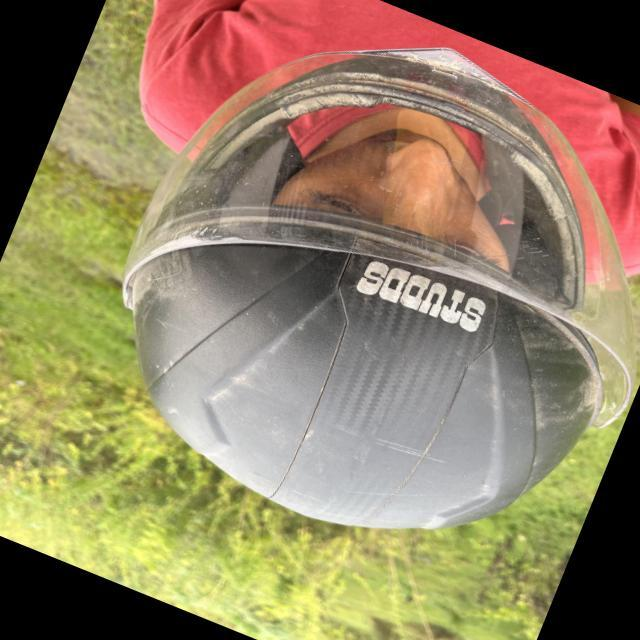WITH_HELMET: (29, 0, 640, 606)
